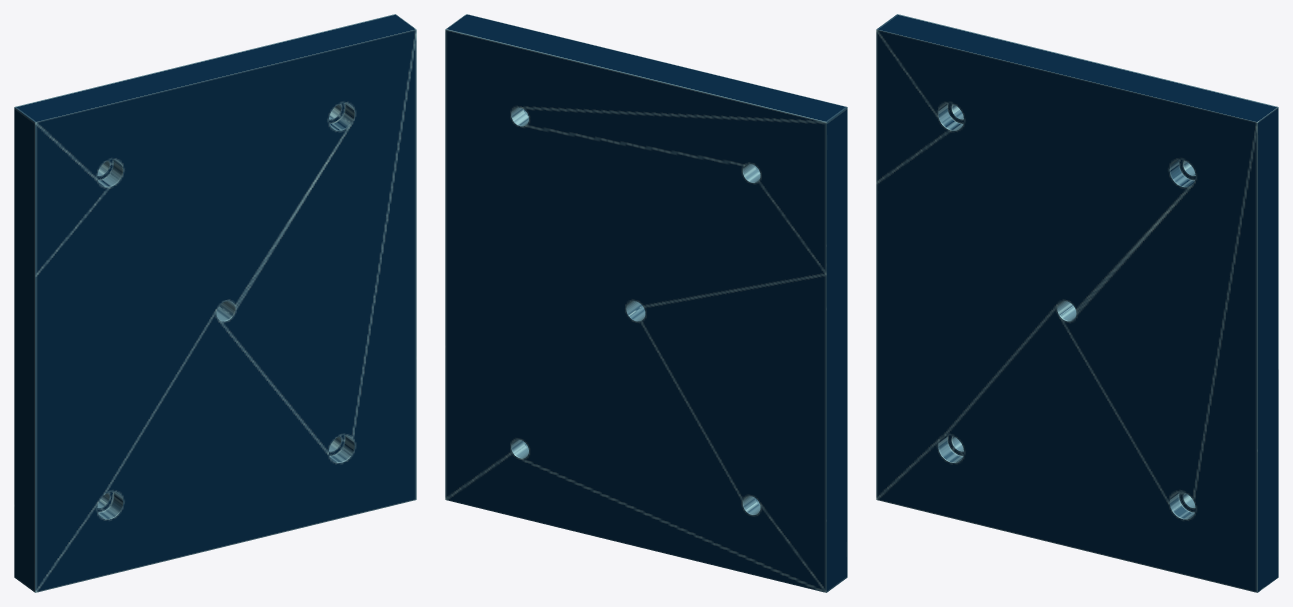
The model's file is Mold3-Top clamping plate-M.glb.
3 renders of one model, left to right at view 1: azimuth 30°, elevation 25°; view 2: azimuth 150°, elevation 25°; view 3: azimuth 330°, elevation 25°, orthographic.
Visible parts, largest first — view 1: semelle supérieure; view 2: semelle supérieure; view 3: semelle supérieure.
Boxes of the visible parts, x1,y1,x2,y2 form: semelle supérieure: (14, 14, 416, 592); semelle supérieure: (445, 14, 847, 592); semelle supérieure: (876, 14, 1278, 592).
Size of the model in its own units: 11.58 by 13.65 by 1.12.
Materials: 1 (1 with a texture image).
